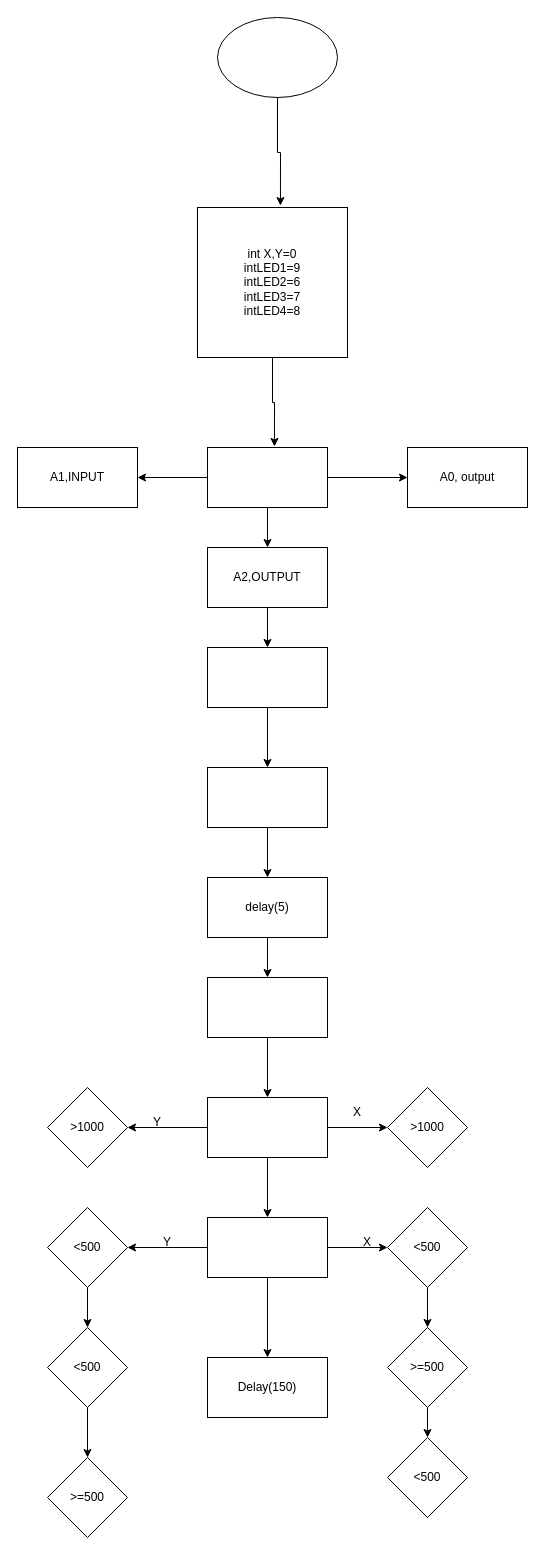
Some shapes in this 545 by 1555 pixel diagram are drawn without their labels. The shapes that lost their labels are listed below. From the top down, each one's centre as x and y in pixels, then its label:
[277,57]: START
[267,477]: PINS SETUP
[267,677]: A3,Input
[267,797]: A0, LOW A2, HIGH
[267,1007]: PINS SET UP LEDS, OUTPUT
[267,1127]: If
[267,1247]: else if
